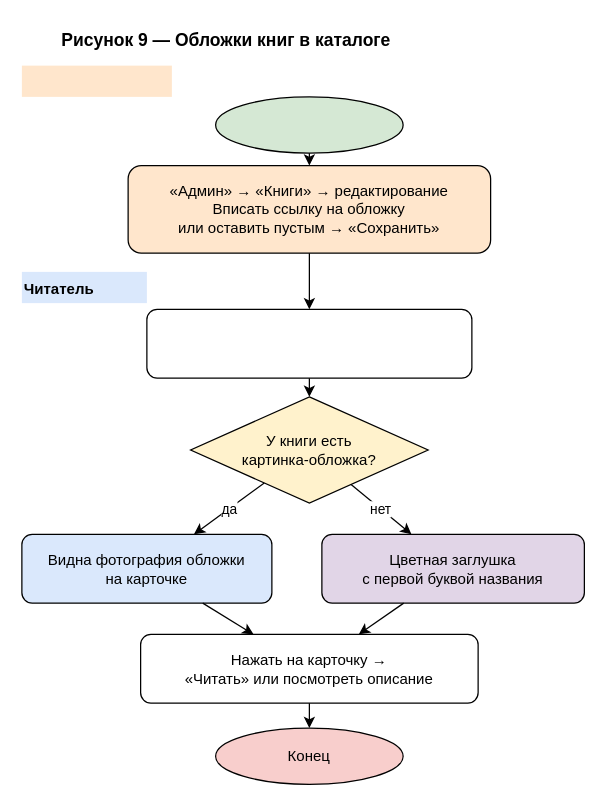
Image size: 606x806. Some labels were removed from this diagram. The centre of each missing label's shape, as x and y in pixels:
"Администратор" goes at (96,80).
"Начало" goes at (308,124).
"Открыть «Книги», «Избранное» или «Полки»" goes at (309,343).
